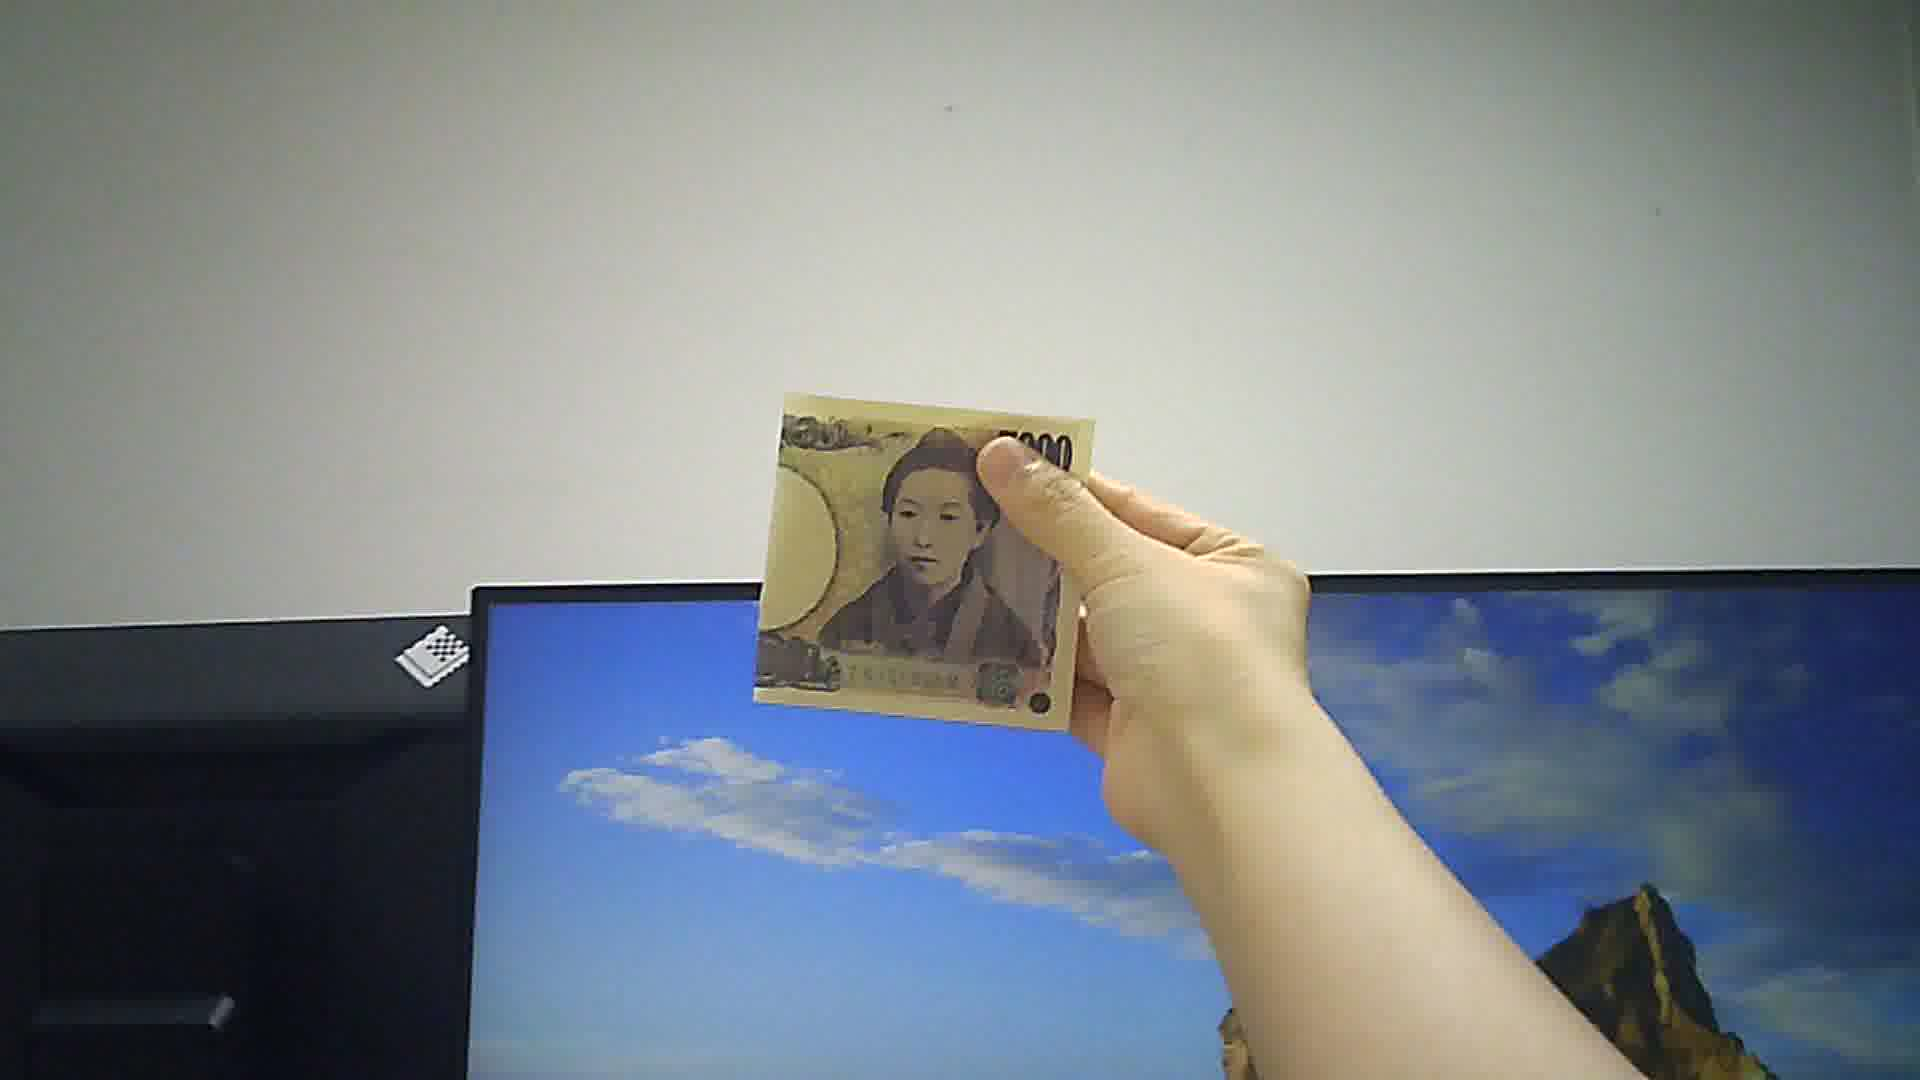5,000 Yen: (745, 376, 1097, 727)
